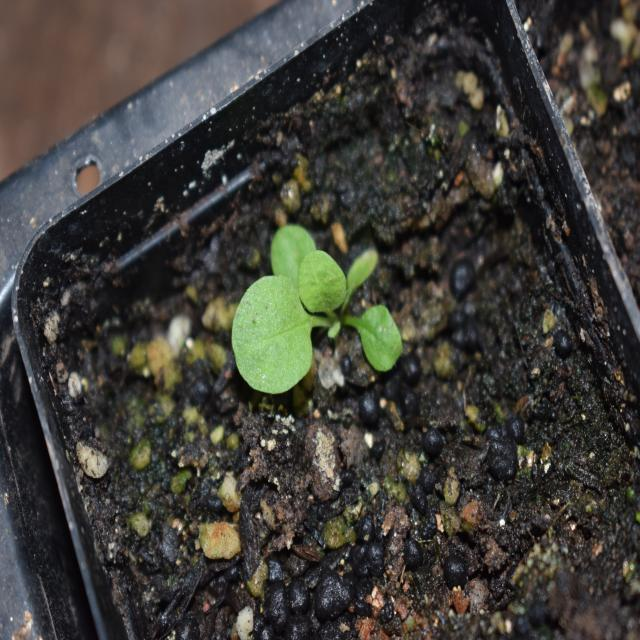Shepherd_Purse: (224, 225, 411, 410)
